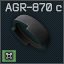FAB Defense protection cap for AGR-870: (0, 0, 64, 64)
